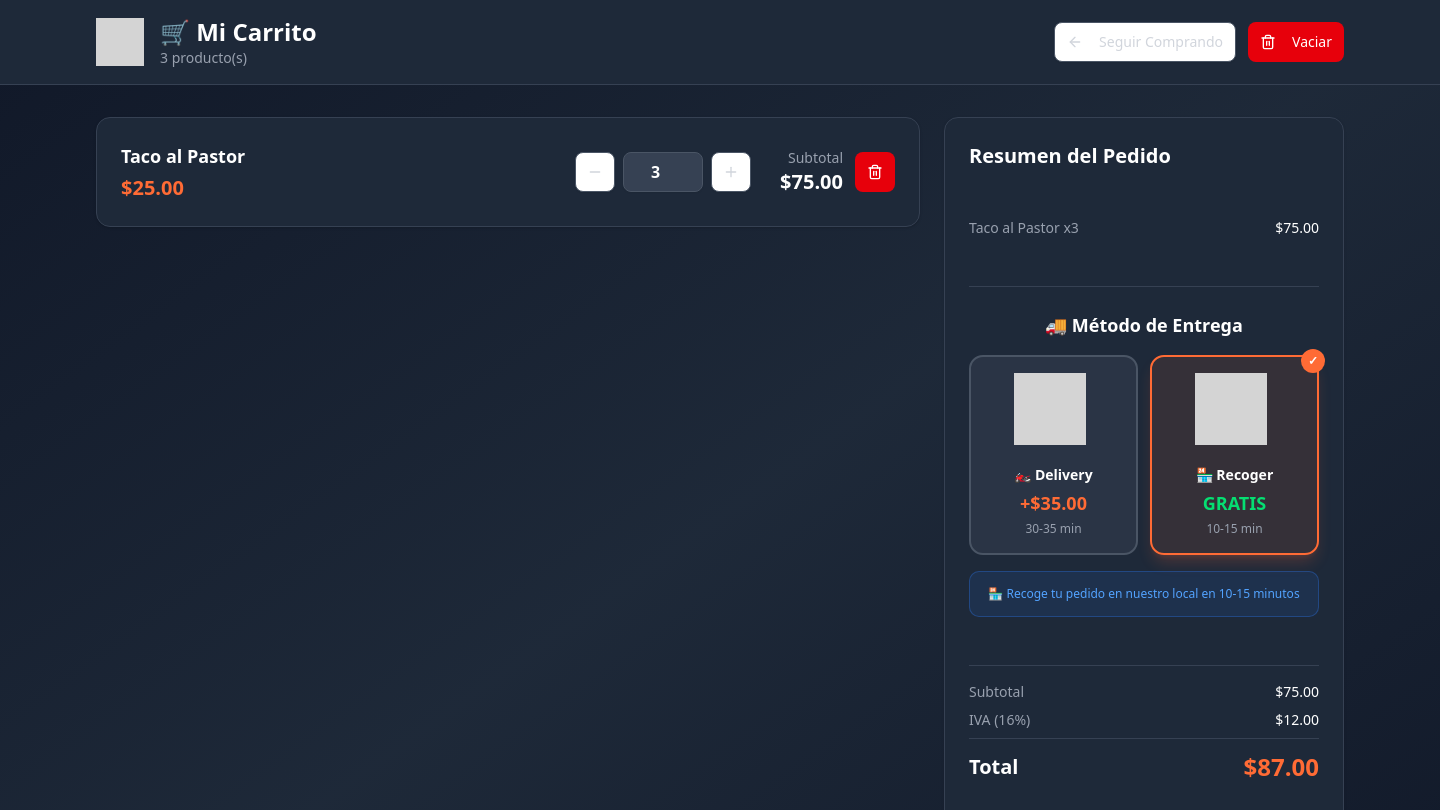
Test: CartPage Component › Quantity Controls › should decrement quantity when minus button clicked
The width and height of the screenshot is (1440, 810).
Check: the heading "Taco al Pastor" is shown, box [121, 144, 245, 168]
Click the 3rd button at x=595, y=172, box [575, 152, 615, 192]
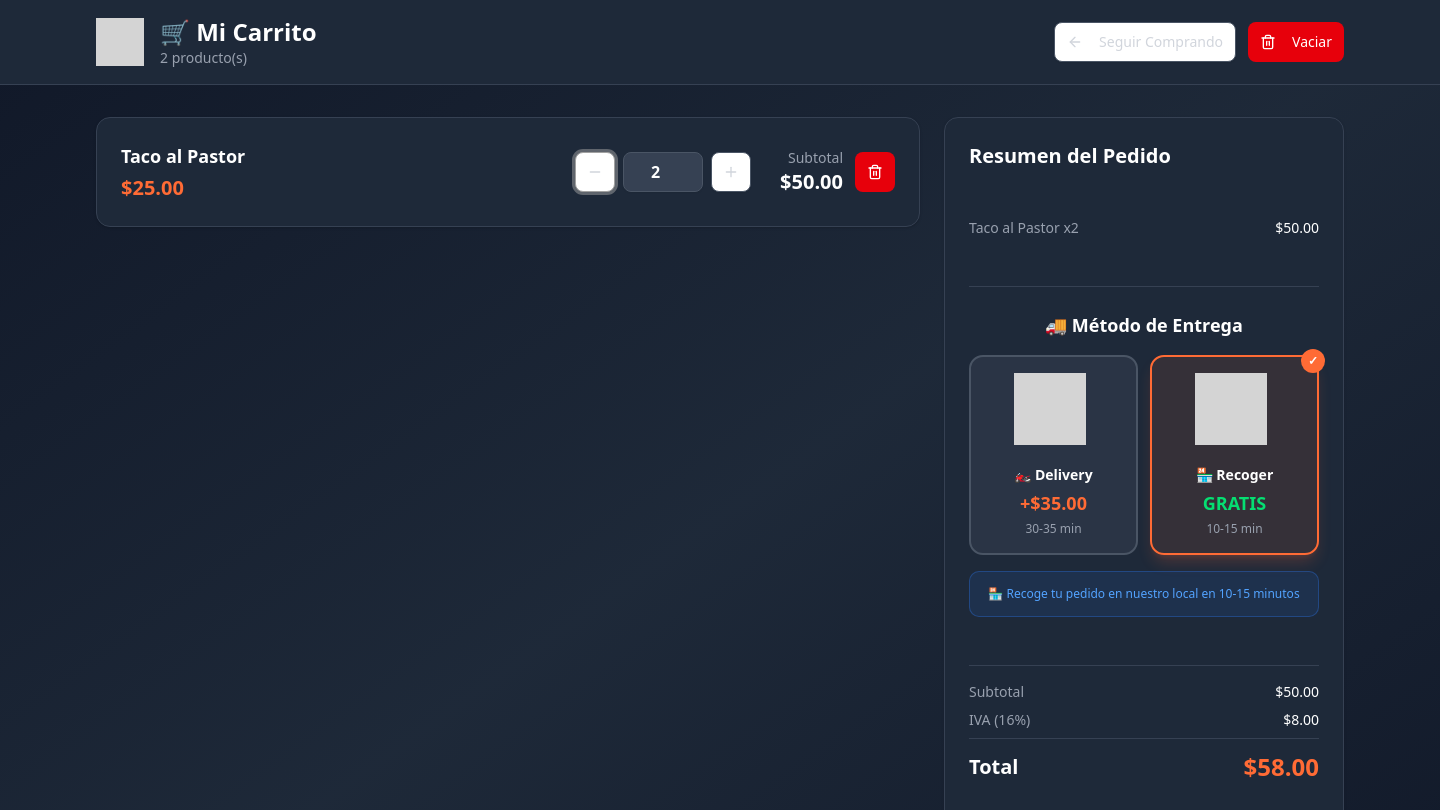
Check: the number field holds "2", box [623, 152, 703, 192]
